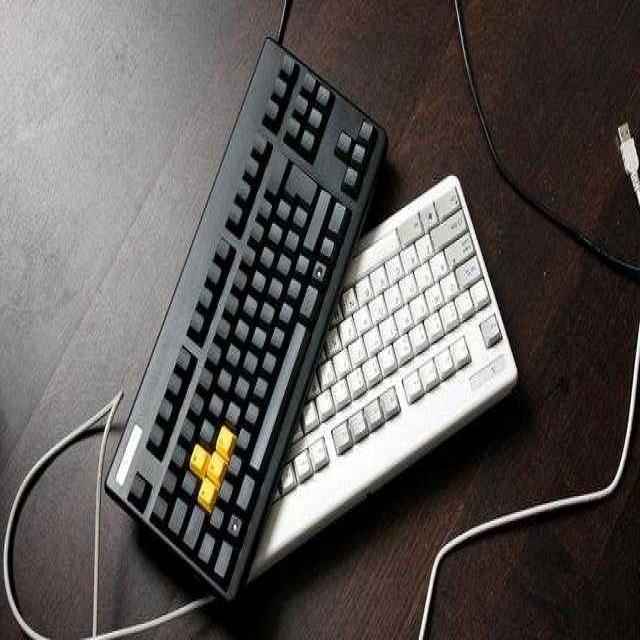keyboard: (101, 34, 389, 599)
